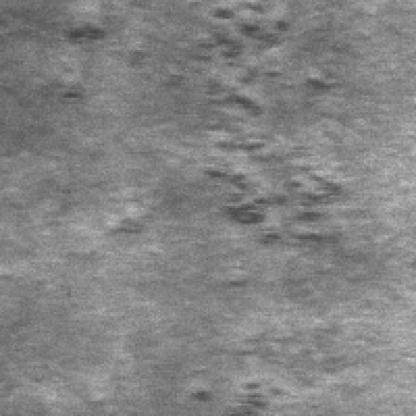rolled-in_scale: (150, 122, 337, 262), (120, 0, 326, 118), (2, 4, 106, 108), (183, 335, 287, 412)
